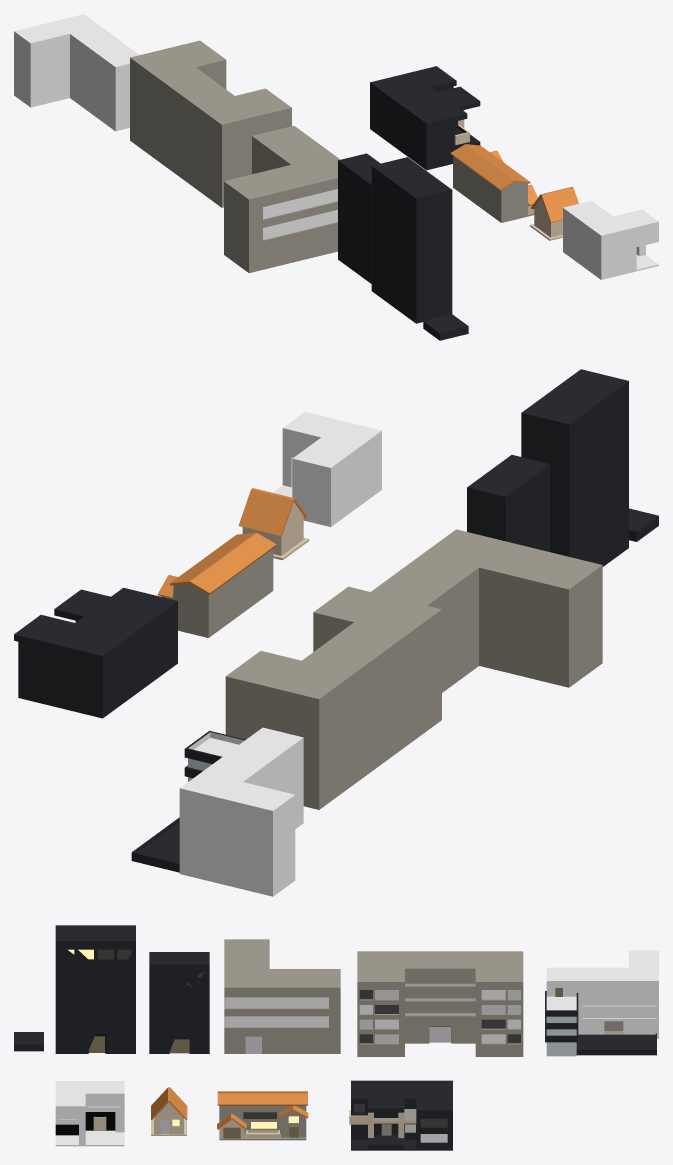
File: building.fbx
The picture shows the model from 3 angles, top to bottom: view 1: azimuth 30°, elevation 25°; view 2: azimuth 150°, elevation 25°; view 3: azimuth 270°, elevation 25°; orthographic projection. The views are drawn at different scales.
Visible parts, largest first — view 1: Building_4, Building_3, Building_1, Building_5, House_4, House_1, House_3, Building_2, House_2, BasePlate; view 2: Building_4, Building_3, Building_5, Building_1, House_4, House_1, House_3, Building_2, House_2; view 3: Building_4, Building_3, Building_5, Building_1, House_4, Building_2, House_1, House_3, House_2, BasePlate.
Boxes of the visible parts, box(x1,y1,x2,y2) form: Building_4: box(130, 40, 291, 207); Building_3: box(224, 126, 340, 272); Building_1: box(371, 157, 452, 323); Building_5: box(14, 14, 139, 131); House_4: box(370, 66, 480, 170); House_1: box(563, 200, 658, 279); House_3: box(450, 144, 537, 222); Building_2: box(338, 153, 380, 283); House_2: box(530, 186, 578, 240); BasePlate: box(423, 314, 468, 340); Building_4: box(225, 586, 441, 809); Building_3: box(371, 529, 602, 692); Building_5: box(131, 727, 303, 896); Building_1: box(521, 369, 628, 566); House_4: box(14, 587, 177, 718); House_1: box(272, 412, 381, 526); House_3: box(157, 532, 276, 637); Building_2: box(467, 455, 550, 551); House_2: box(238, 488, 309, 560); Building_4: box(357, 951, 523, 1056); Building_3: box(224, 939, 340, 1053); Building_5: box(545, 950, 658, 1056); Building_1: box(55, 925, 135, 1053); House_4: box(349, 1080, 452, 1150); Building_2: box(149, 952, 209, 1053); House_1: box(55, 1081, 124, 1146); House_3: box(217, 1091, 308, 1140); House_2: box(151, 1087, 187, 1135); BasePlate: box(14, 1032, 43, 1051).
Size of the model in its own units: 2191 by 888 by 4287.
